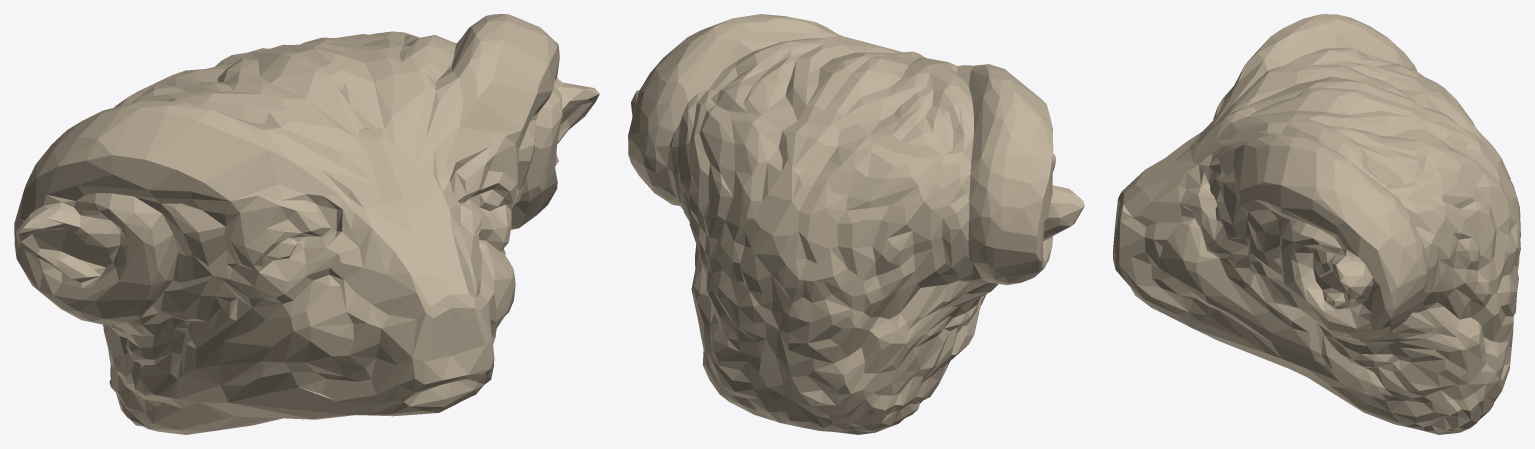
File: Bull_02.glb
3 renders of one model, left to right at view 1: azimuth 30°, elevation 25°; view 2: azimuth 150°, elevation 25°; view 3: azimuth 270°, elevation 25°, orthographic. The views are drawn at different scales.
Visible parts, largest first — view 1: Bull_02; view 2: Bull_02; view 3: Bull_02.
Boxes of the visible parts, x1,y1,x2,y2 form: Bull_02: (14, 14, 599, 434); Bull_02: (628, 14, 1084, 434); Bull_02: (1113, 14, 1520, 434).
Size of the model in its own units: 3.02 by 2.03 by 2.35.
